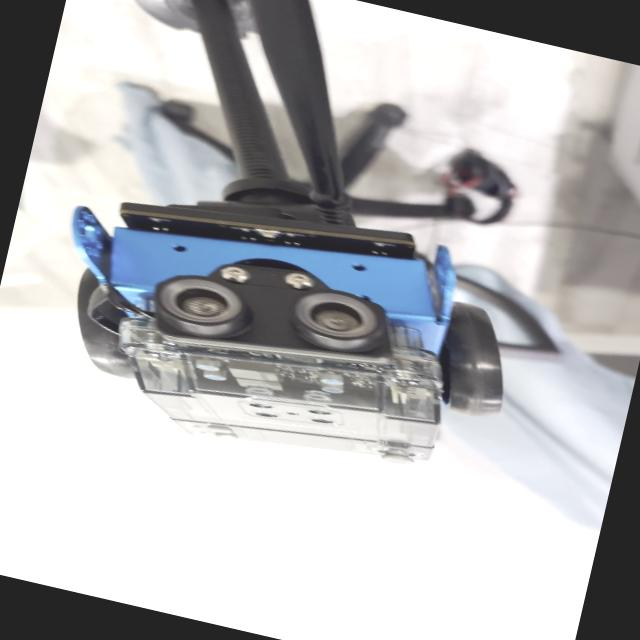mbot-detection: (18, 144, 546, 514)
